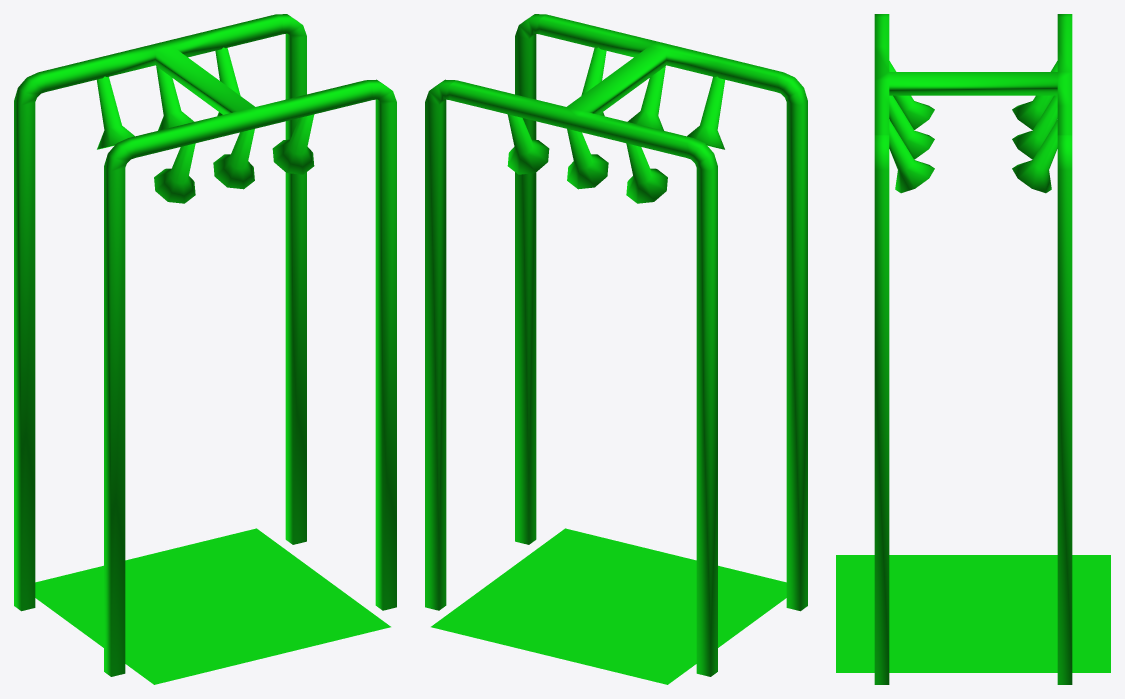
File: Toxic_T1_Floor_InActive.fbx
3 renders of one model, left to right at view 1: azimuth 30°, elevation 25°; view 2: azimuth 150°, elevation 25°; view 3: azimuth 270°, elevation 25°, orthographic.
Visible parts, largest first — view 1: Toxic_T1_Floor_InActive; view 2: Toxic_T1_Floor_InActive; view 3: Toxic_T1_Floor_InActive.
Part boxes in pixels (bbox=[...]): Toxic_T1_Floor_InActive: bbox=[14, 14, 396, 684]; Toxic_T1_Floor_InActive: bbox=[425, 14, 807, 684]; Toxic_T1_Floor_InActive: bbox=[836, 14, 1110, 684].
Size of the model in its own units: 1.16 by 0.9524 by 2.06.
